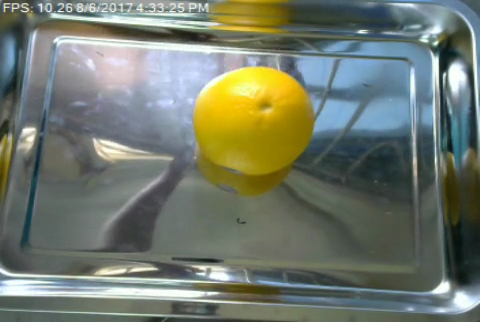Orange: (193, 66, 316, 174)
